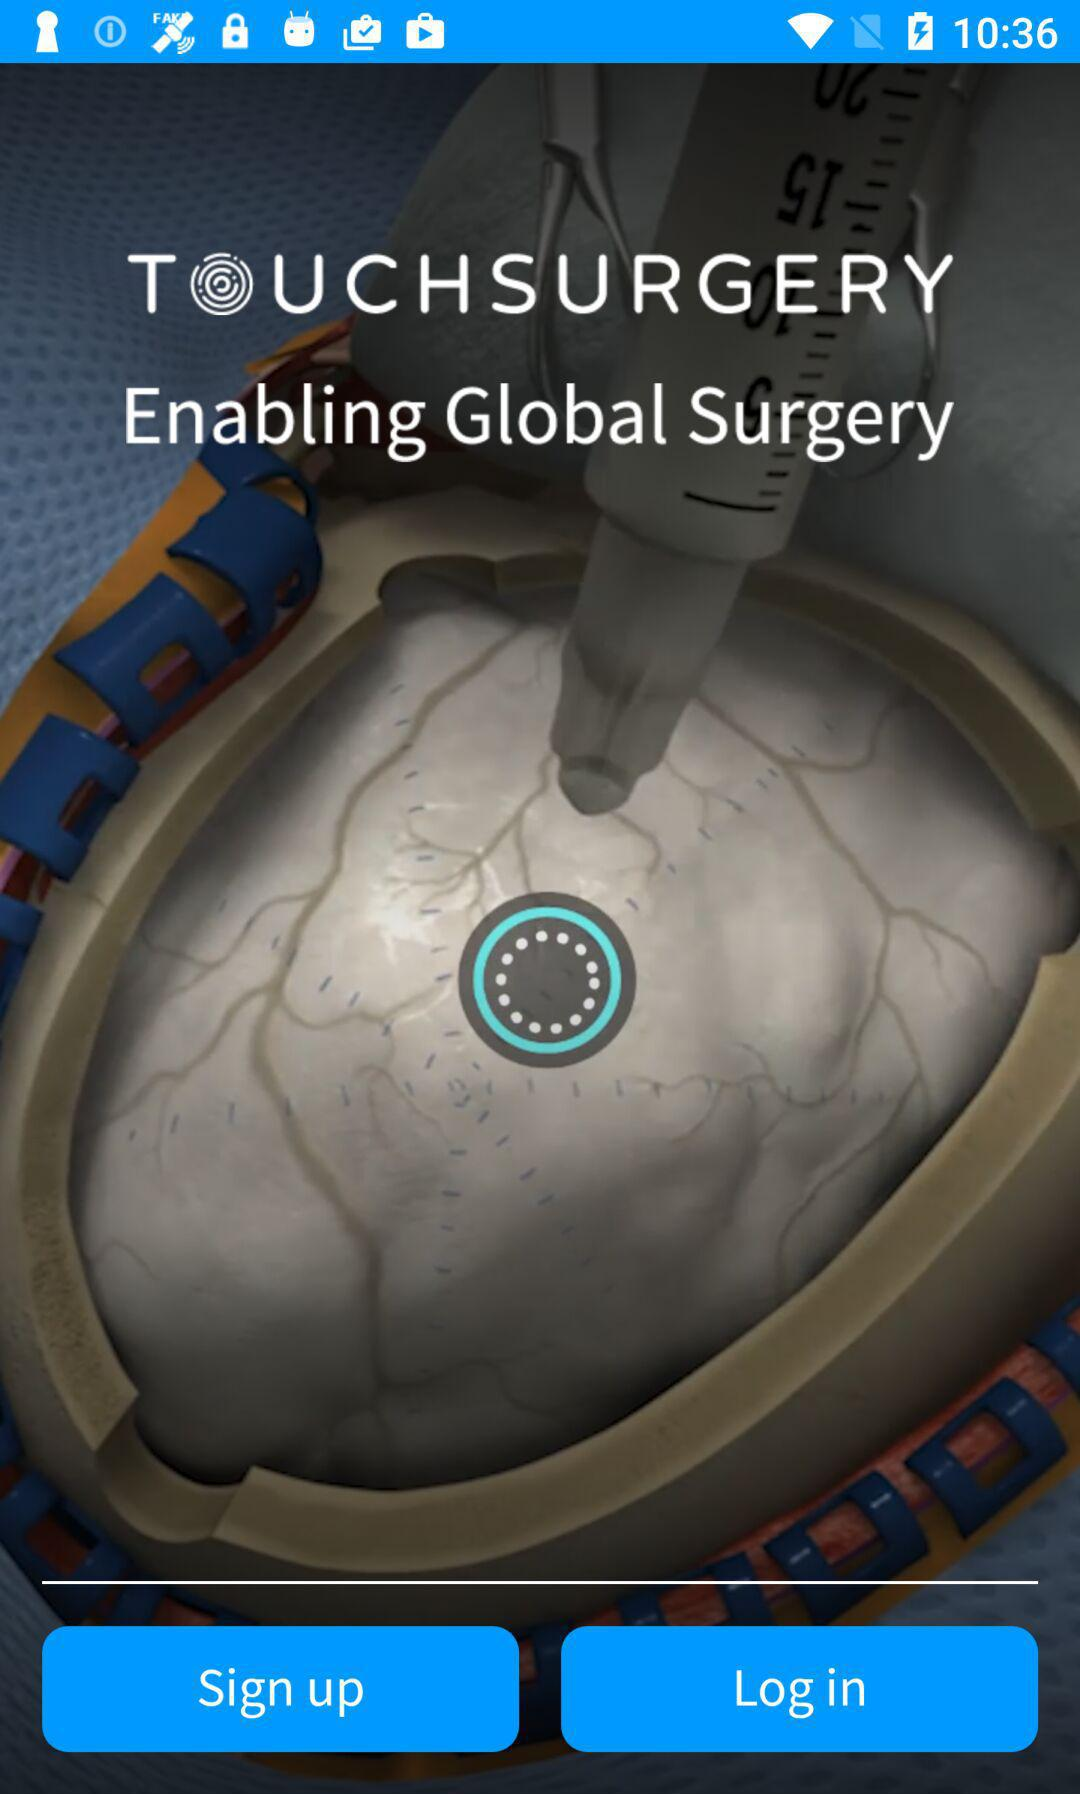BackgroundImage: (1, 64, 1080, 1794)
Image: (127, 251, 954, 318)
Text: (126, 382, 956, 465)
TextButton: (561, 1625, 1039, 1753), (42, 1626, 520, 1753)
UpperTaskBar: (1, 1, 1080, 64)
